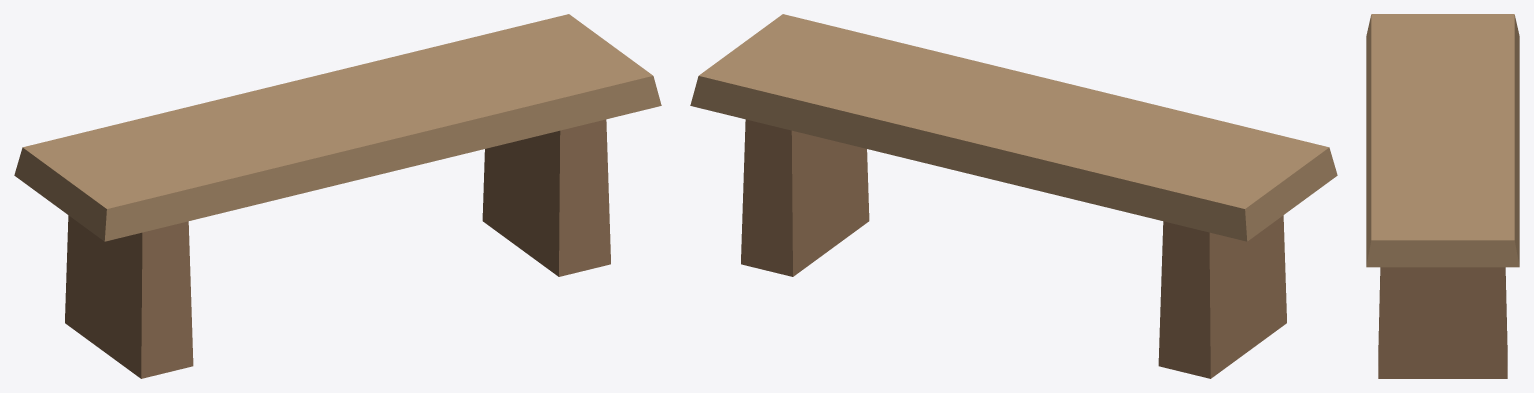
File: garden-bench-low.glb
3 renders of one model, left to right at view 1: azimuth 30°, elevation 25°; view 2: azimuth 150°, elevation 25°; view 3: azimuth 270°, elevation 25°, orthographic. The views are drawn at different scales.
Visible parts, largest first — view 1: garden-bench; view 2: garden-bench; view 3: garden-bench.
Boxes of the visible parts, x1,y1,x2,y2 form: garden-bench: (14,14,661,378); garden-bench: (690,14,1337,378); garden-bench: (1366,14,1519,378).
Bounding box in the file's own units: 1.6 × 0.5 × 0.45.
